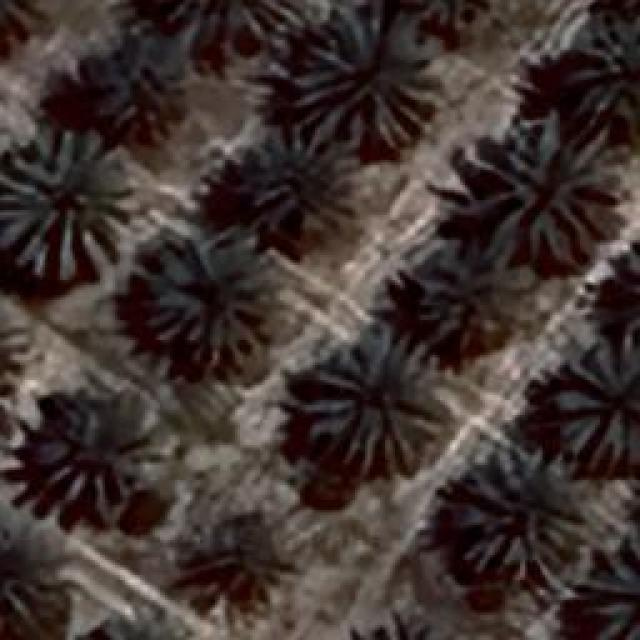PalmTree: (30, 95, 120, 571), (475, 110, 620, 265), (292, 330, 442, 478), (290, 8, 438, 150), (0, 125, 135, 280), (135, 230, 280, 370), (452, 444, 578, 578), (82, 20, 188, 130), (37, 402, 145, 508), (550, 342, 638, 470), (418, 255, 518, 350), (238, 144, 332, 242), (192, 518, 290, 604), (120, 28, 228, 95), (564, 22, 638, 118), (587, 542, 635, 638), (0, 289, 25, 431), (80, 612, 193, 640), (348, 614, 458, 640), (617, 228, 640, 348), (401, 0, 492, 28), (346, 621, 458, 640), (0, 0, 42, 50), (0, 288, 17, 403), (624, 228, 640, 346), (627, 229, 640, 344)
